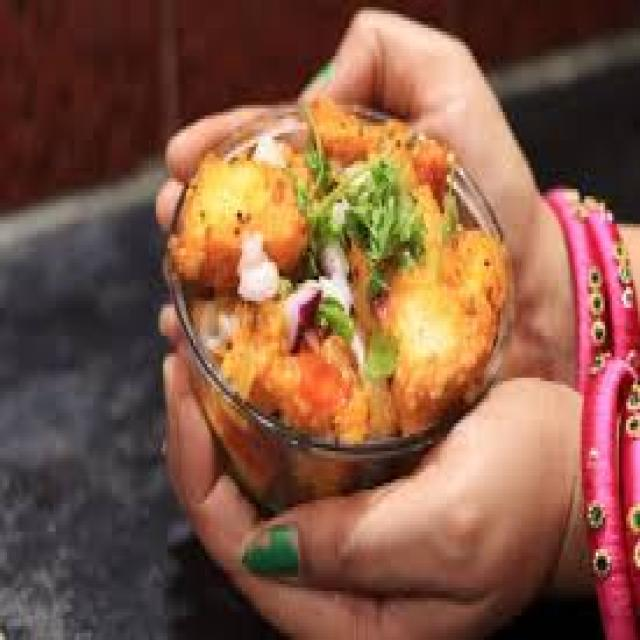UPMA: (163, 91, 503, 437)
